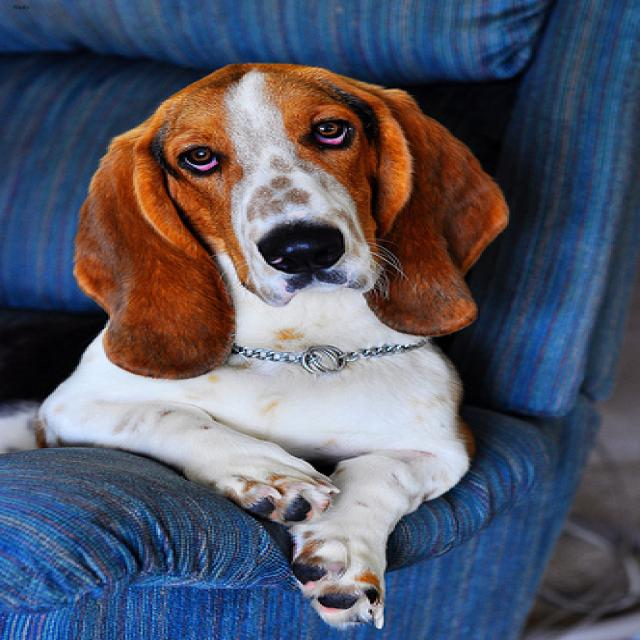dog-basset_hound: (2, 45, 526, 637)
